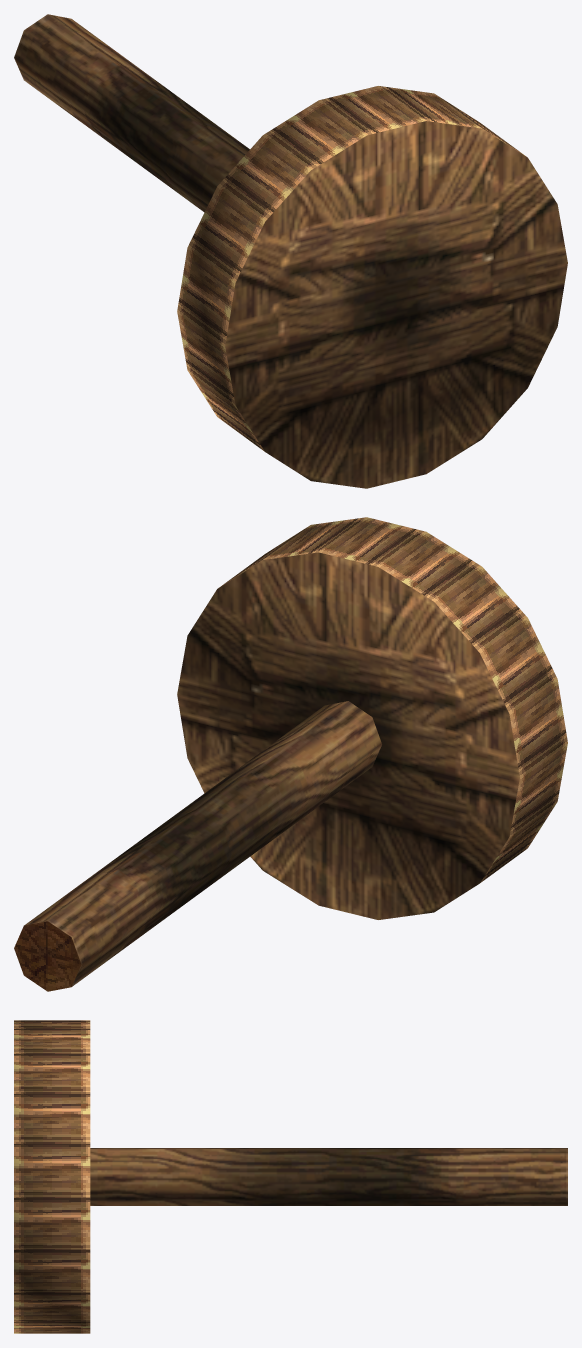
Rendered from INST_SWORDLIGHT_DRUMA.fbx.
3 renders of one model, top to bottom at view 1: azimuth 30°, elevation 25°; view 2: azimuth 150°, elevation 25°; view 3: azimuth 270°, elevation 25°, orthographic. The views are drawn at different scales.
Parts seen in each view (by area): view 1: INST_SWORDLIGHT_DRUMA; view 2: INST_SWORDLIGHT_DRUMA; view 3: INST_SWORDLIGHT_DRUMA.
Boxes of the visible parts, x1,y1,x2,y2 form: INST_SWORDLIGHT_DRUMA: (14,14,567,488); INST_SWORDLIGHT_DRUMA: (14,517,567,991); INST_SWORDLIGHT_DRUMA: (14,1020,567,1333).
Size of the model in its own units: 25400 by 25014 by 44782.
Materials: 4 (4 with a texture image).
